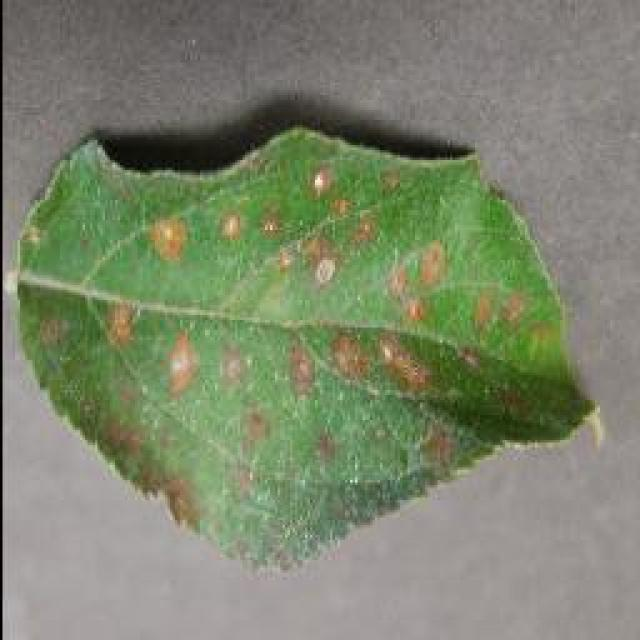apple healthy: (10, 120, 602, 575)
